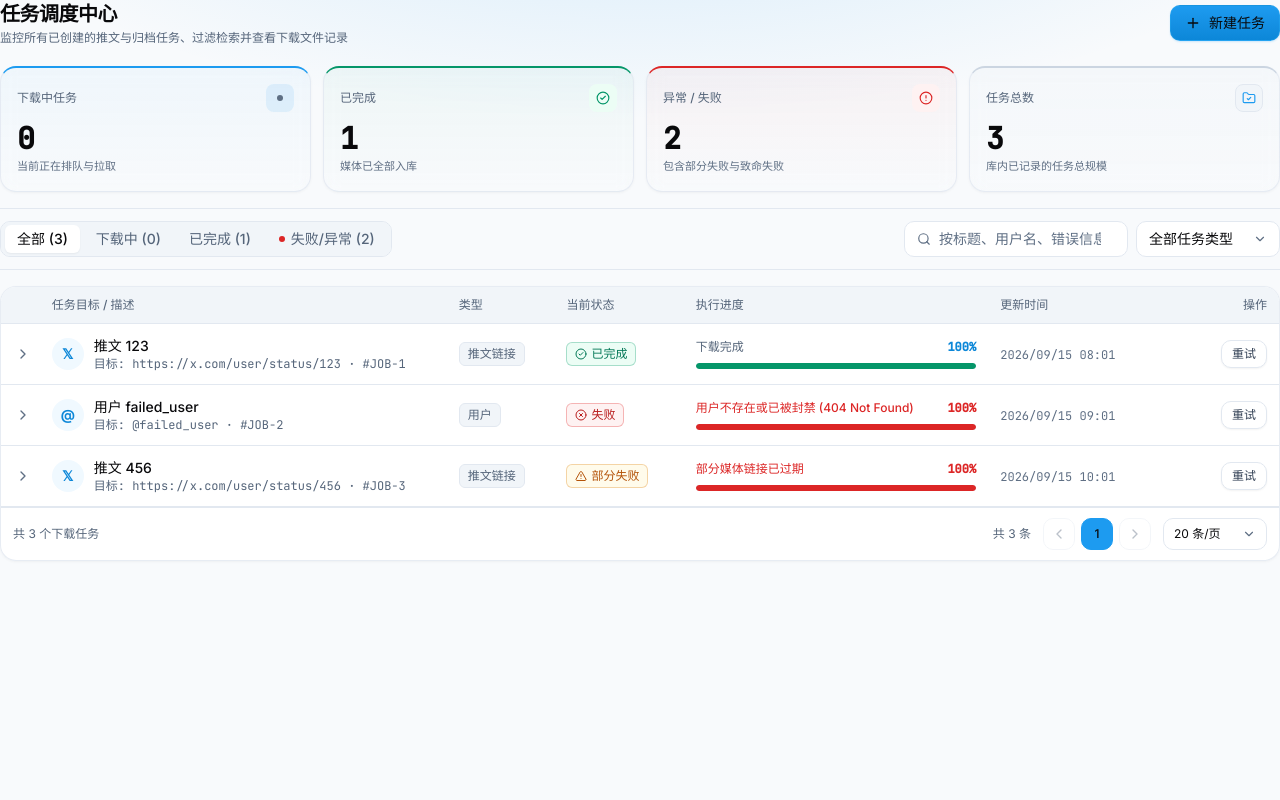
Scenario: TaskCenterPage 复制错误信息 › 通过 writeClipboard 复制并在成功后显示已复制
The image size is (1280, 800).
Click the button named "展开详情" next to "用户 failed_user". click: (23, 414)
box: [9,400,37,428]
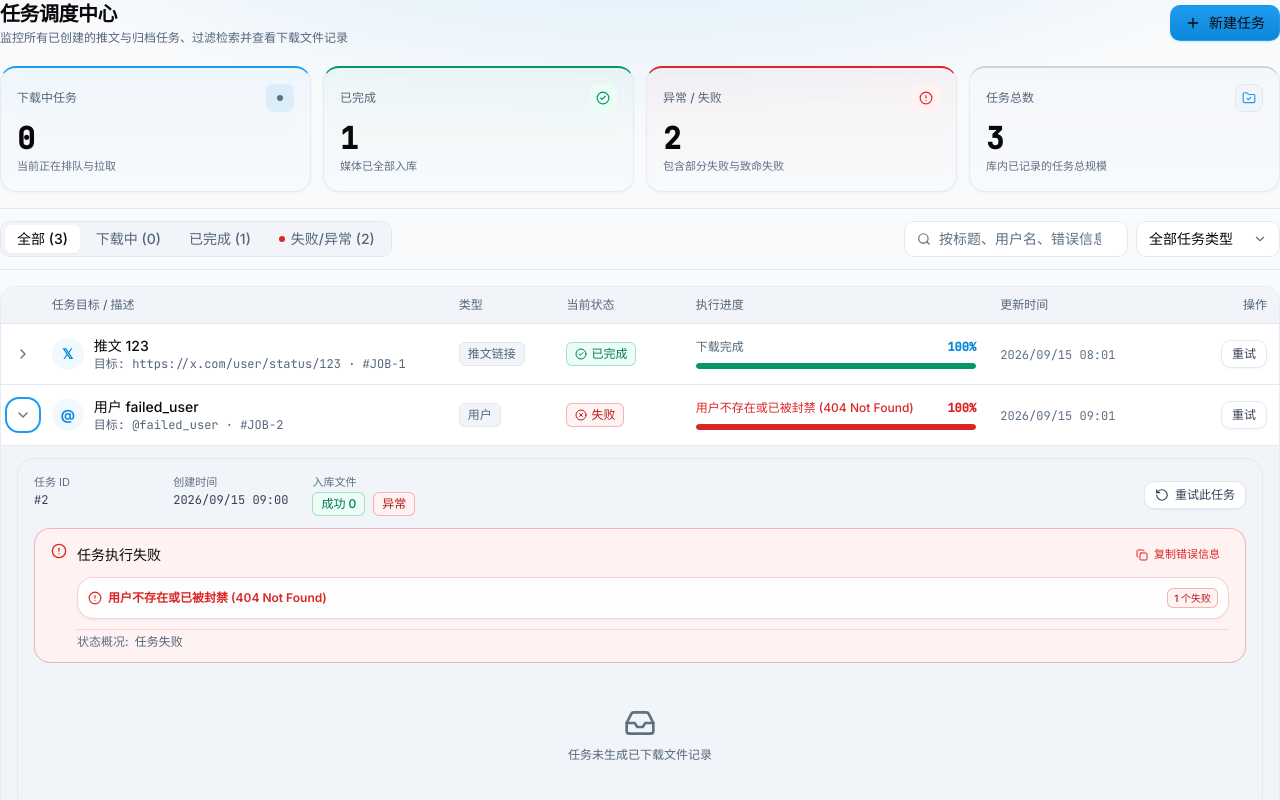
Check: the text "任务执行失败" is shown, box [77,545,161,565]
Click the button "复制错误信息". click: (1178, 555)
box: [1127,541,1229,569]
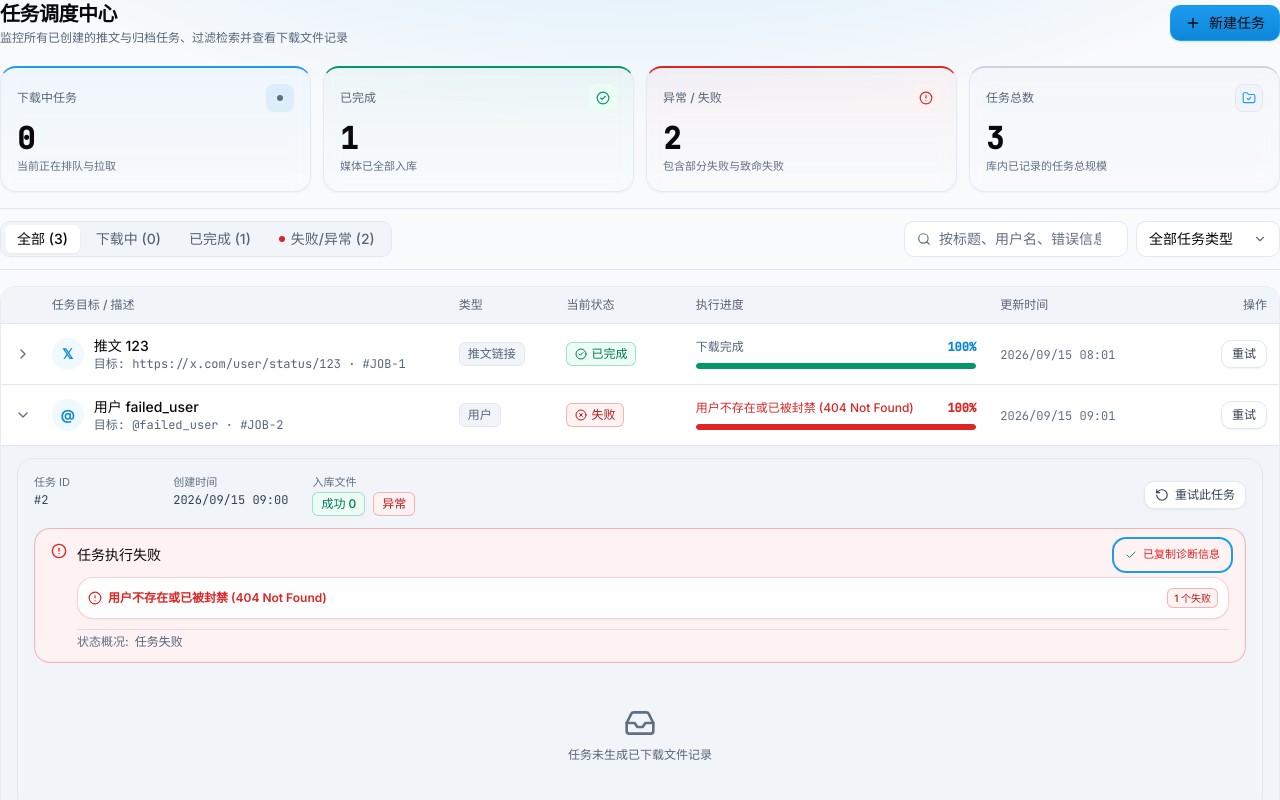
Check: the button "已复制诊断信息" is shown, box [1116,541,1229,569]
